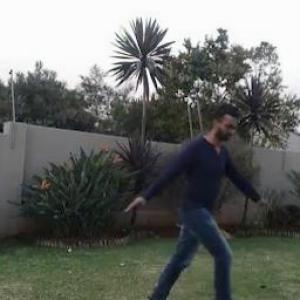land: (125, 96, 272, 299)
